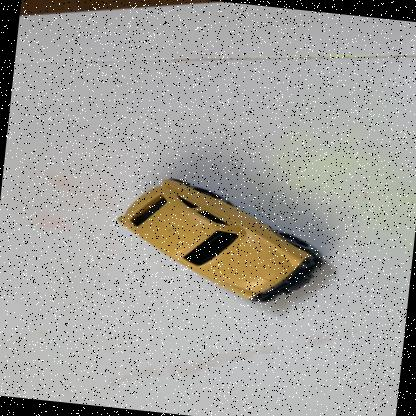yellow mini cooper: (106, 170, 334, 310)
